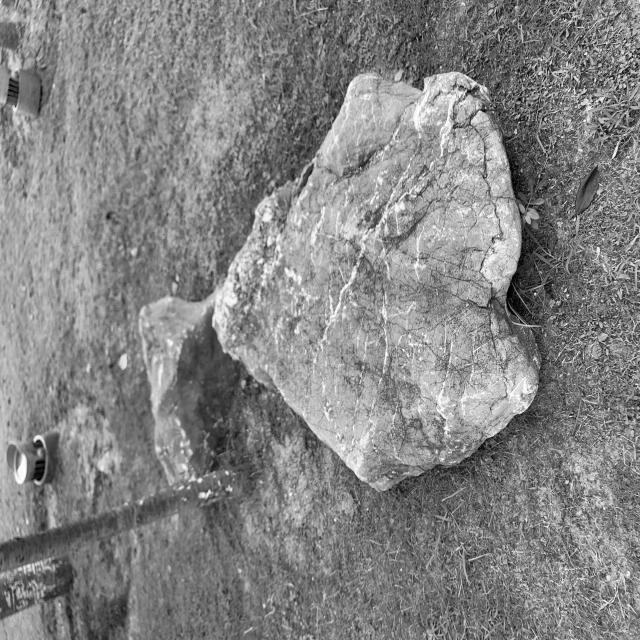Stone: (140, 72, 539, 490)
